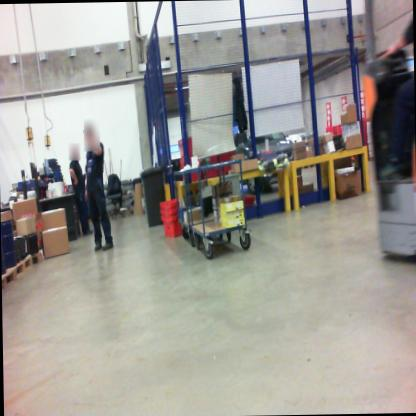forklift: (364, 0, 416, 267)
pallet: (8, 251, 34, 289), (2, 267, 17, 290), (30, 247, 43, 271)
small_load_carrier: (178, 149, 203, 189), (158, 214, 184, 242), (177, 130, 199, 162)
